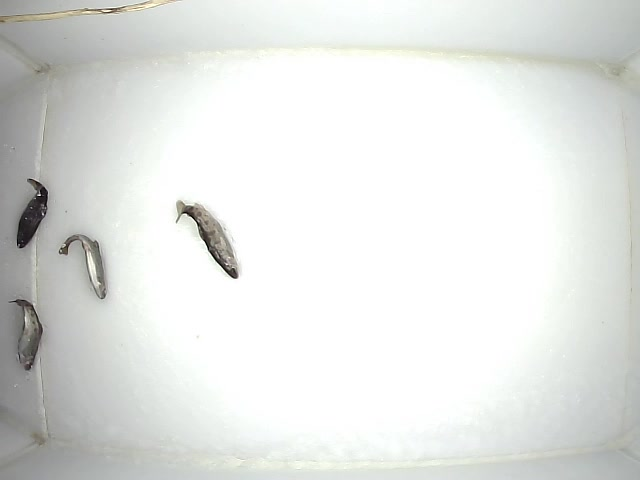fish: (172, 199, 241, 281), (58, 235, 109, 302), (14, 176, 50, 249), (8, 297, 43, 372)
